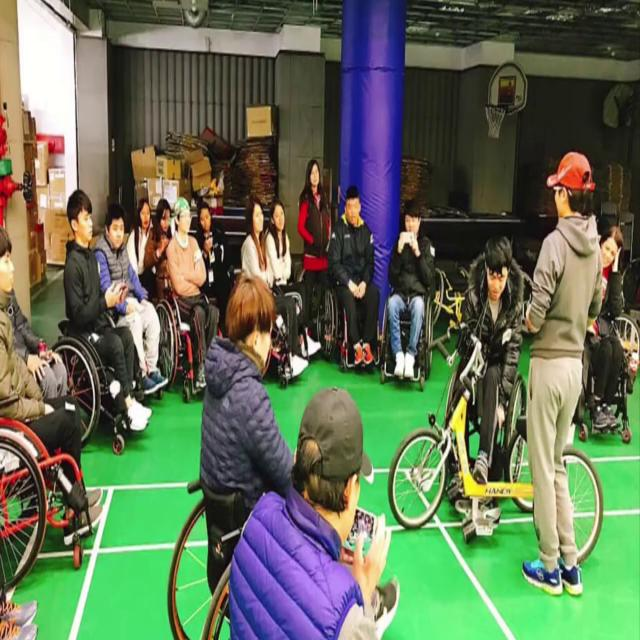wheelchairs: (154, 418, 330, 640), (0, 391, 113, 613), (48, 284, 155, 483), (443, 303, 532, 506), (139, 259, 234, 411), (574, 280, 635, 448), (373, 277, 447, 406), (319, 257, 384, 375)
